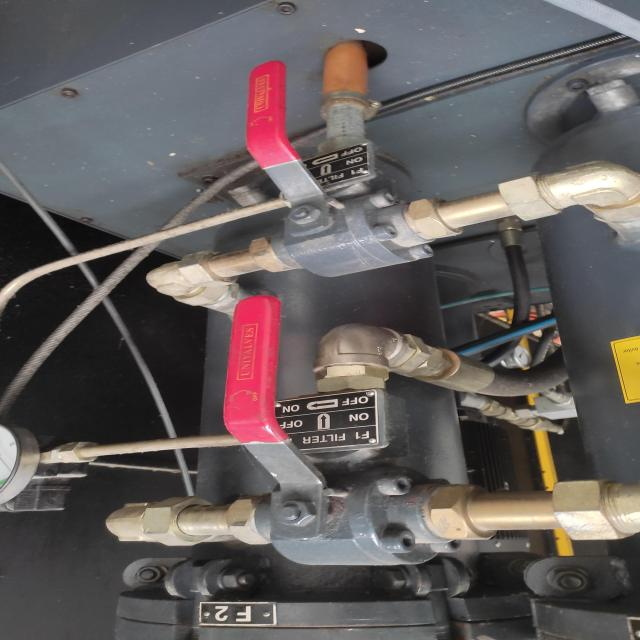closed_valve: (214, 289, 470, 575), (236, 59, 454, 278)
